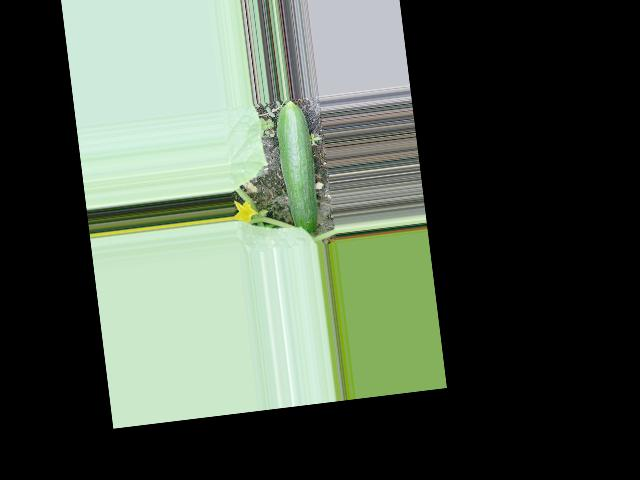cucumber: (273, 98, 322, 235)
